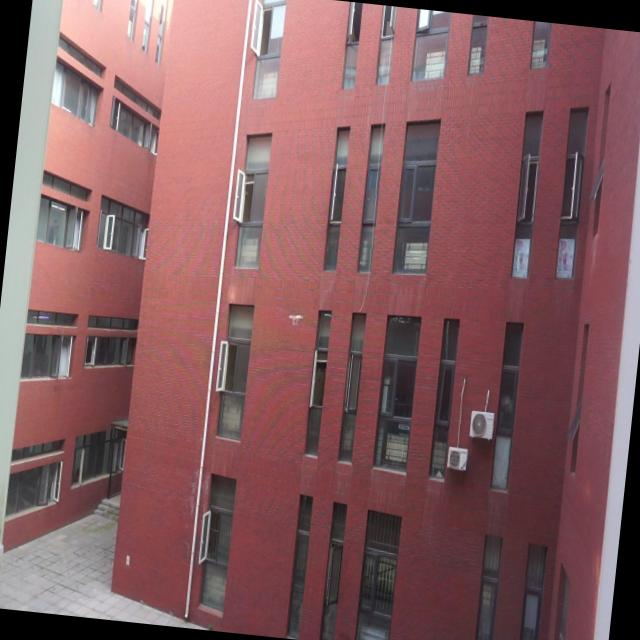drone: (284, 308, 306, 330)
